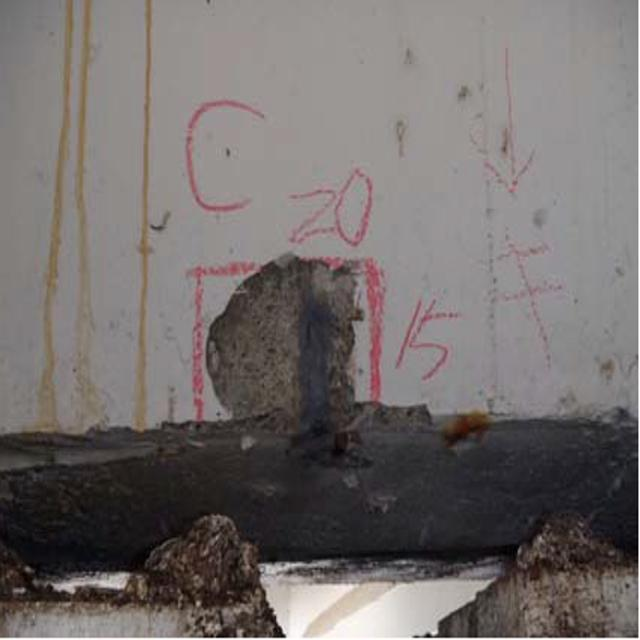spalling: (192, 234, 387, 477)
